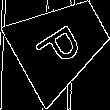P_NE: (32, 15, 90, 73)
